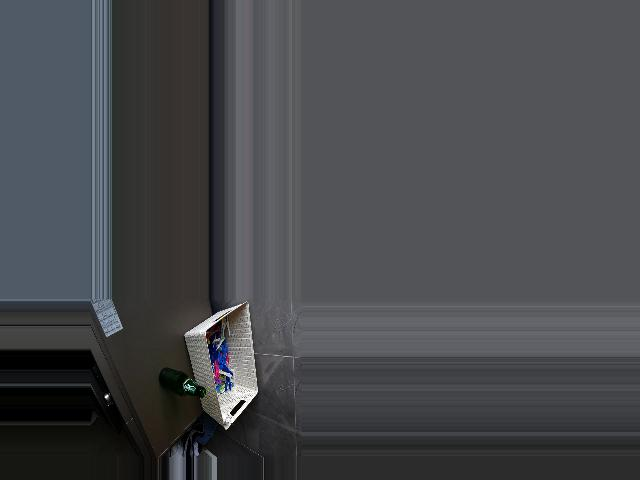beer: (158, 367, 205, 397)
